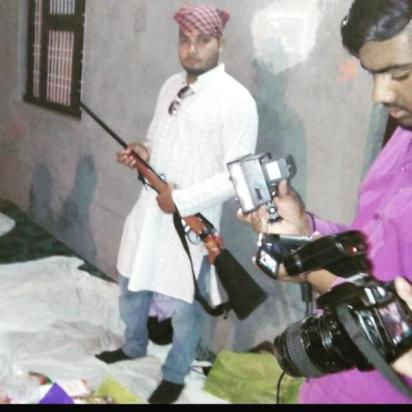Gun: (68, 92, 271, 324)
